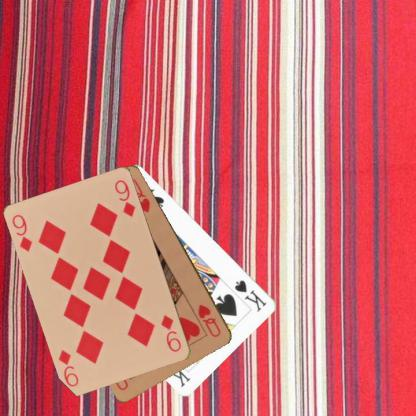9d: (158, 312, 183, 354), (10, 212, 34, 253)
Ks: (232, 277, 268, 313)
Qh: (196, 302, 223, 338)
